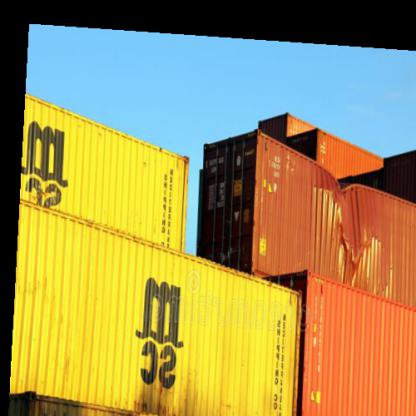Damage: (329, 169, 382, 262)
